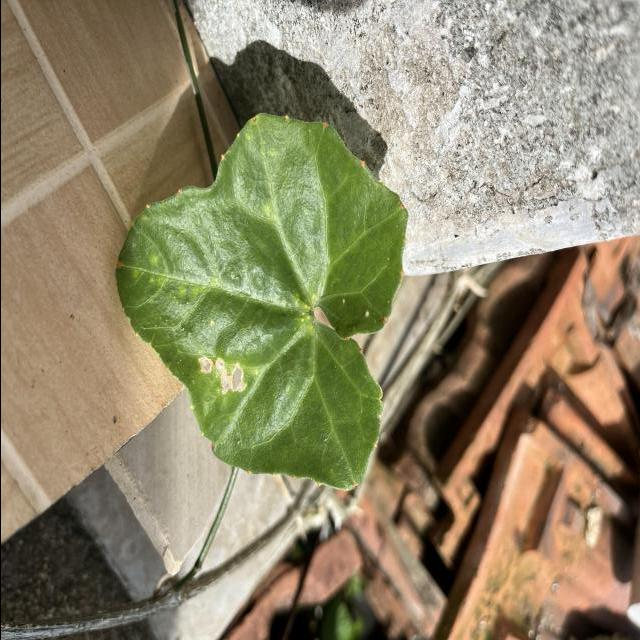Coccinia grandis: (112, 100, 413, 496)
